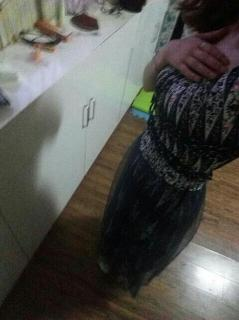vest: (99, 19, 239, 299)
